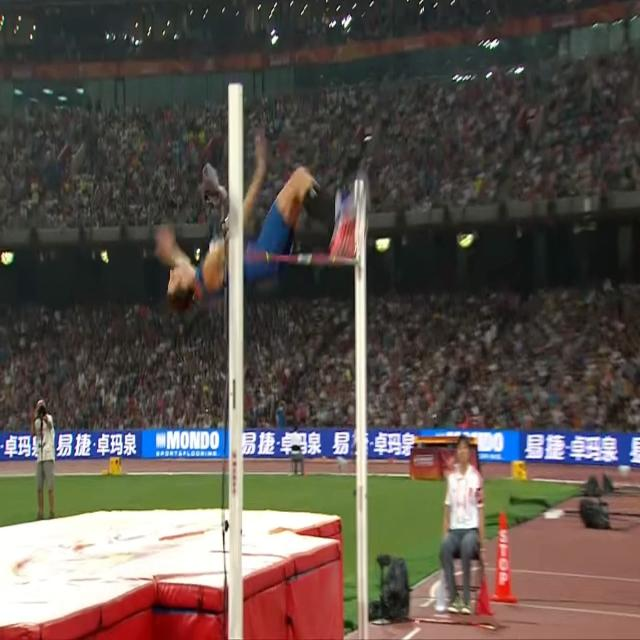jump: (167, 141, 363, 305)
